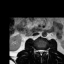CCS_normal: (40, 47, 42, 57)
LFS_normal: (44, 47, 46, 54)
LLS_normal: (42, 47, 44, 54)
RFS_normal: (36, 47, 38, 53)
RLS_normal: (38, 47, 40, 54)
